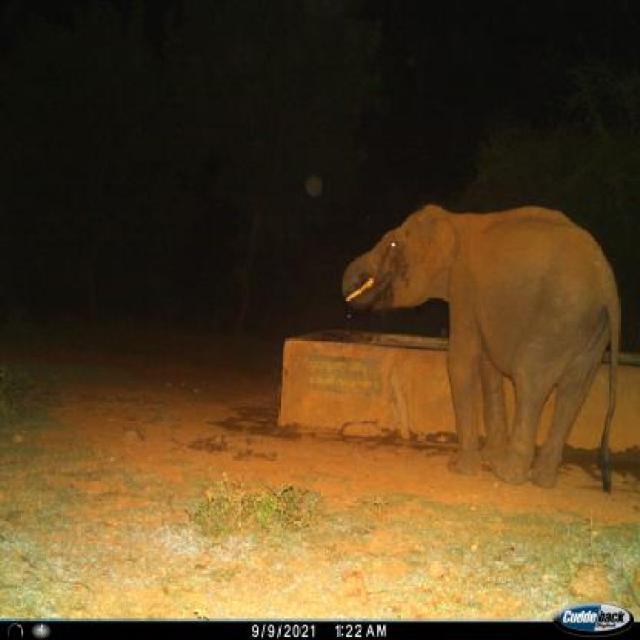Elephant: (339, 195, 626, 494)
